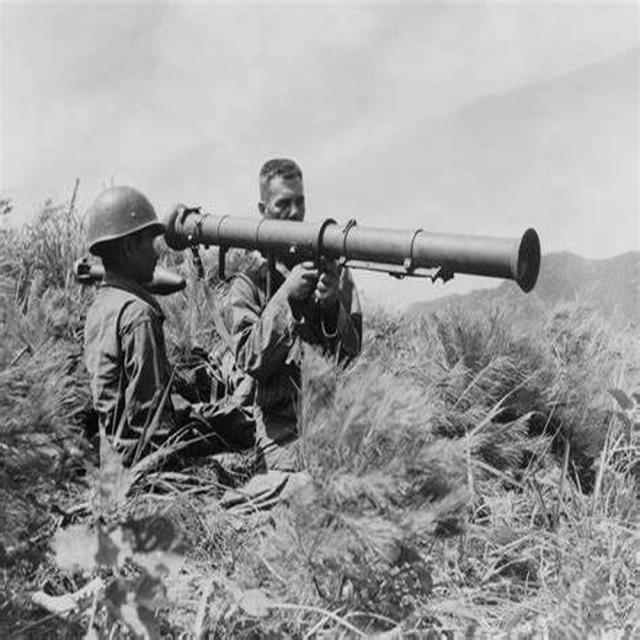rocket launcher: (177, 195, 552, 294)
